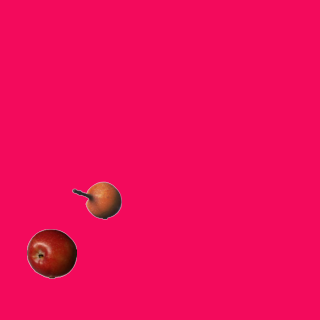Apple Braeburn: (26, 228, 76, 278)
Granadilla: (71, 175, 121, 225)
